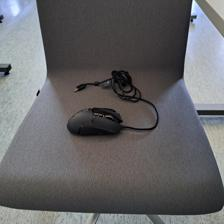mouse: (66, 106, 123, 135)
